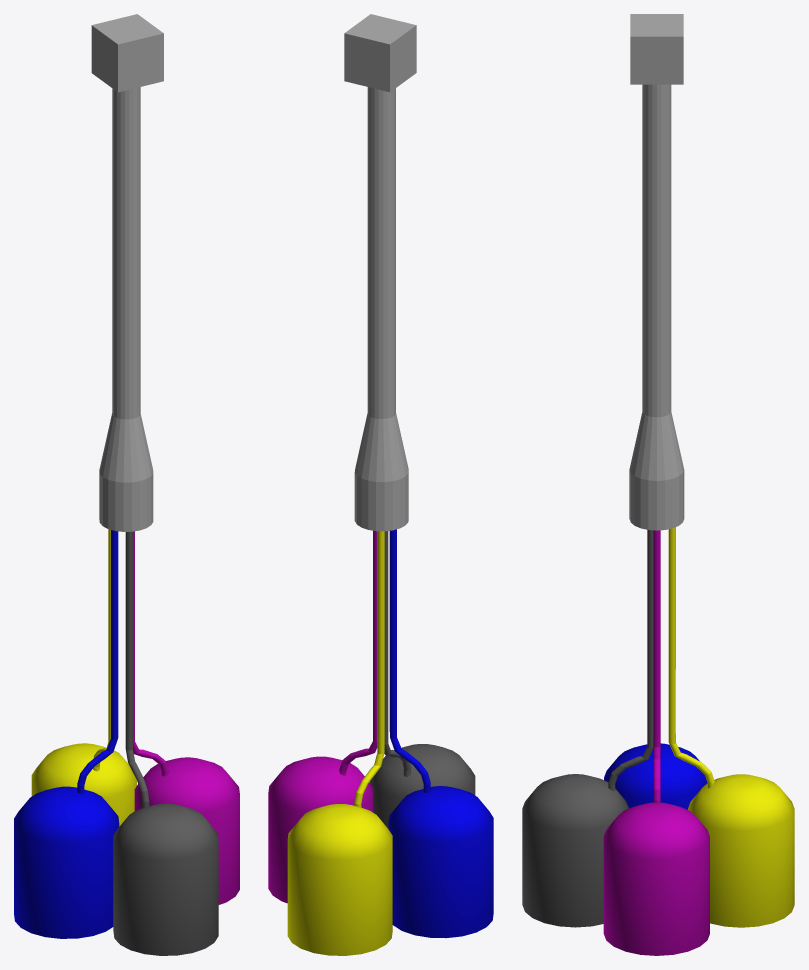
File: PaintStuff.fbx
3 views of the same model, side by side, from view 1: azimuth 30°, elevation 25°; view 2: azimuth 150°, elevation 25°; view 3: azimuth 270°, elevation 25° (orthographic).
Parts seen in each view (by area): view 1: pCylinder9, pCylinder4, pCylinder2, pCylinder1, pCube1, pCylinder3, pCylinder8, pCylinder6, pCylinder5, pCylinder7; view 2: pCylinder9, pCylinder3, pCylinder2, pCylinder1, pCube1, pCylinder4, pCylinder7, pCylinder6, pCylinder5, pCylinder8; view 3: pCylinder9, pCylinder1, pCylinder3, pCylinder4, pCylinder2, pCube1, pCylinder7, pCylinder5, pCylinder8.
Boxes of the visible parts, left/top/right/bottom form: pCylinder9: left=99, top=87, right=153, bottom=531; pCylinder4: left=113, top=803, right=218, bottom=955; pCylinder2: left=14, top=786, right=119, bottom=938; pCylinder1: left=134, top=757, right=239, bottom=904; pCube1: left=91, top=14, right=163, bottom=92; pCylinder3: left=31, top=743, right=136, bottom=826; pCylinder8: left=125, top=531, right=149, bottom=808; pCylinder6: left=77, top=530, right=118, bottom=793; pCylinder5: left=133, top=531, right=168, bottom=776; pCylinder7: left=93, top=529, right=110, bottom=771; pCylinder9: left=354, top=87, right=408, bottom=531; pCylinder3: left=287, top=804, right=392, bottom=955; pCylinder2: left=388, top=786, right=493, bottom=938; pCylinder1: left=268, top=756, right=373, bottom=903; pCube1: left=344, top=14, right=416, bottom=92; pCylinder4: left=370, top=744, right=475, bottom=828; pCylinder7: left=354, top=531, right=384, bottom=807; pCylinder6: left=389, top=529, right=430, bottom=792; pCylinder5: left=339, top=530, right=377, bottom=775; pCylinder8: left=384, top=531, right=410, bottom=776; pCylinder9: left=629, top=84, right=684, bottom=530; pCylinder1: left=603, top=802, right=709, bottom=955; pCylinder3: left=688, top=774, right=794, bottom=927; pCylinder4: left=522, top=774, right=628, bottom=927; pCylinder2: left=604, top=743, right=707, bottom=809; pCube1: left=630, top=14, right=683, bottom=84; pCylinder7: left=668, top=527, right=714, bottom=788; pCylinder5: left=653, top=530, right=660, bottom=802; pCylinder8: left=608, top=530, right=653, bottom=790.
Bounding box in the file's own units: 4.63 × 18.24 × 5.11.
